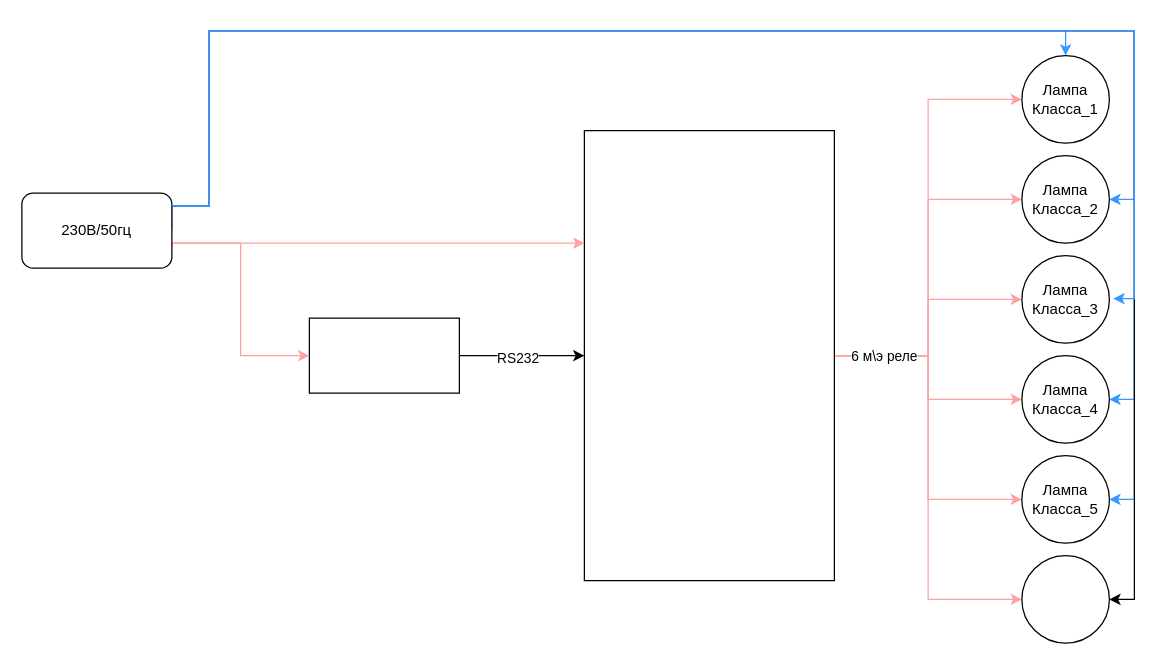
The diagram is 1166 pixels wide and 665 high, and some of its shapes have lost their labels. Each missing label, with the box of its shape:
Весы Гулливер 15: (308, 317, 459, 393)
Лампа Класса_6: (1021, 554, 1109, 643)
ОВЕН ПЛК100: (583, 129, 834, 581)
